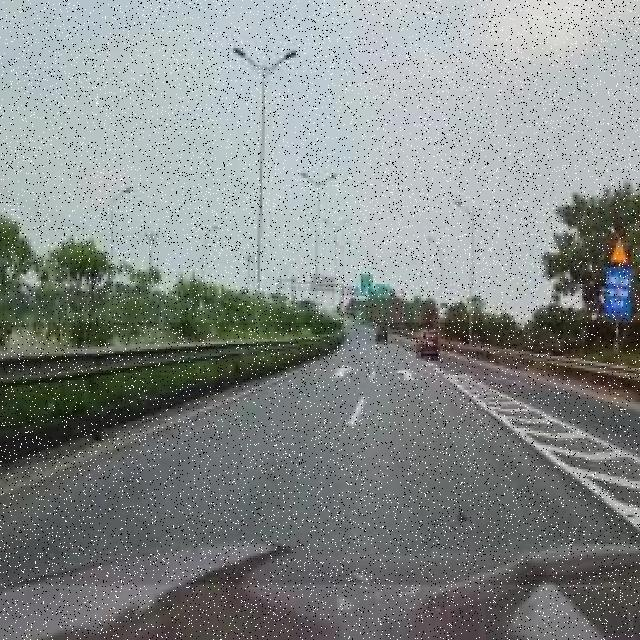clear-road: (0, 324, 640, 585), (440, 356, 640, 456)
